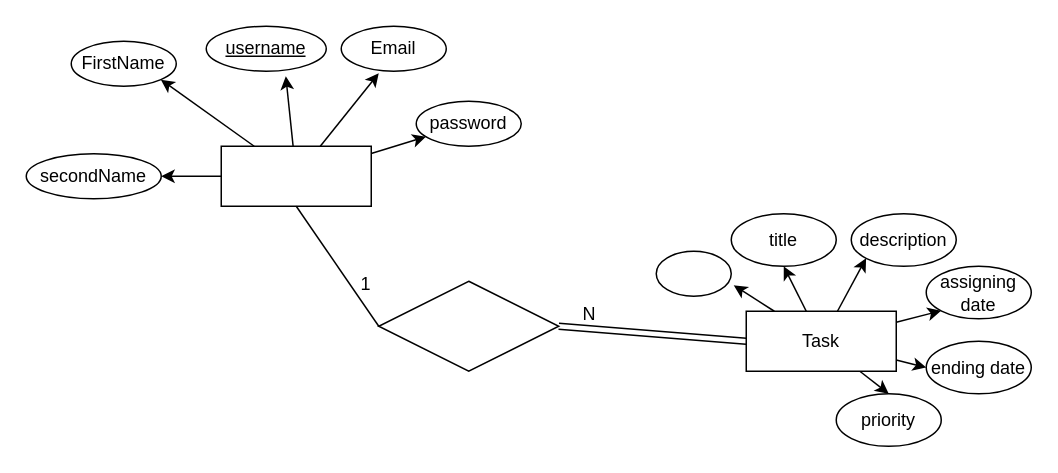
Some shapes in this 1058 by 473 pixel diagram are drawn without their labels. The shapes that lost their labels are listed below. From the top down, each one's box as (x1, y1, x2, y2) in pixels, then its label:
(220, 145, 371, 206): Employee
(655, 250, 731, 296): id
(377, 280, 559, 371): has a
